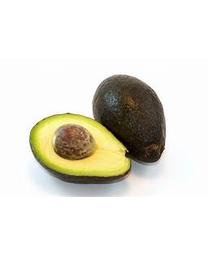avocado: (29, 112, 132, 185), (92, 75, 166, 164)
